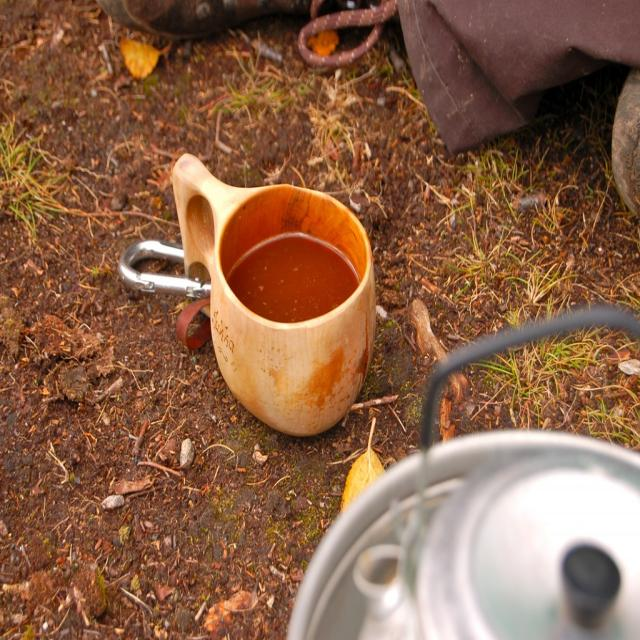Tea: (227, 233, 361, 321)
